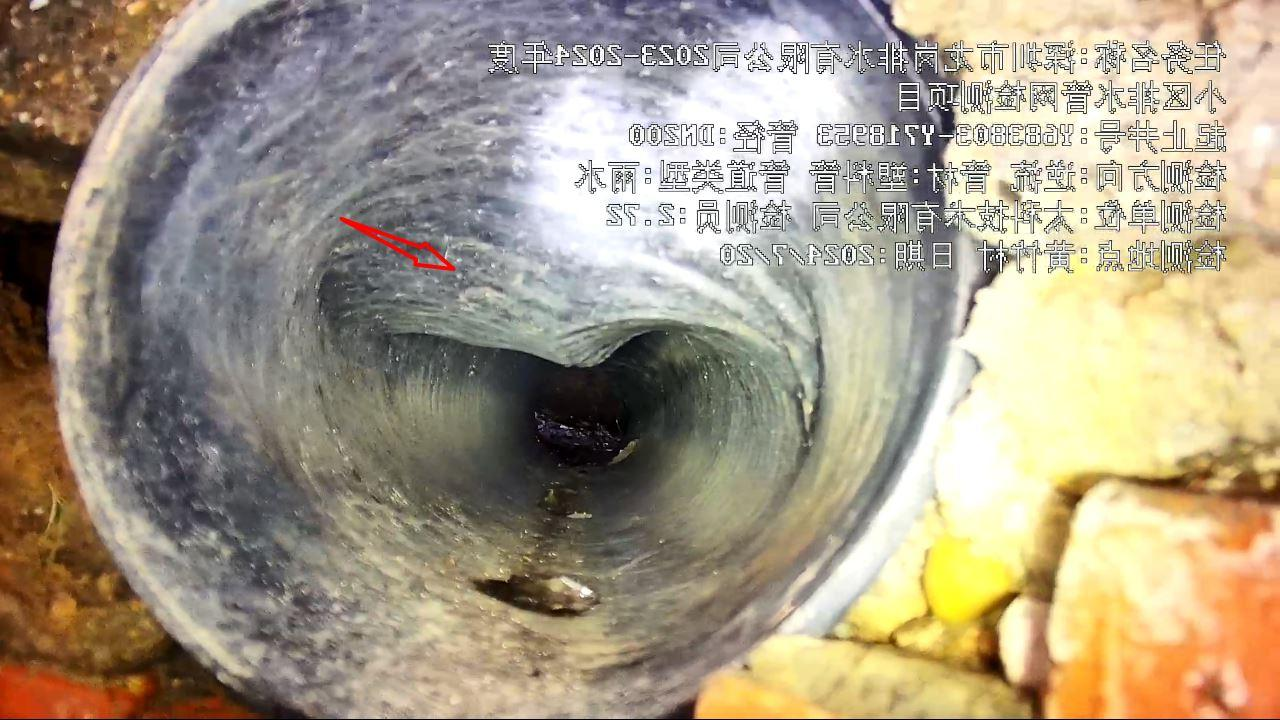BX: (295, 252, 790, 376)
